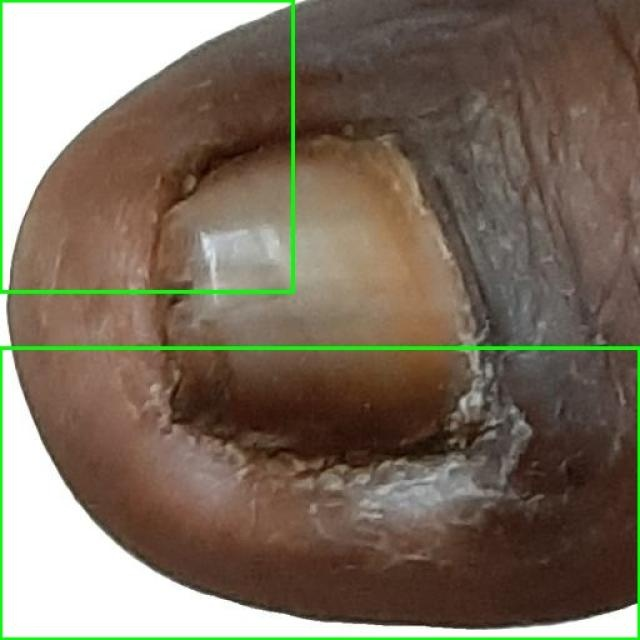Seborrheic Dermatitis: (0, 348, 639, 639), (0, 0, 292, 291)
